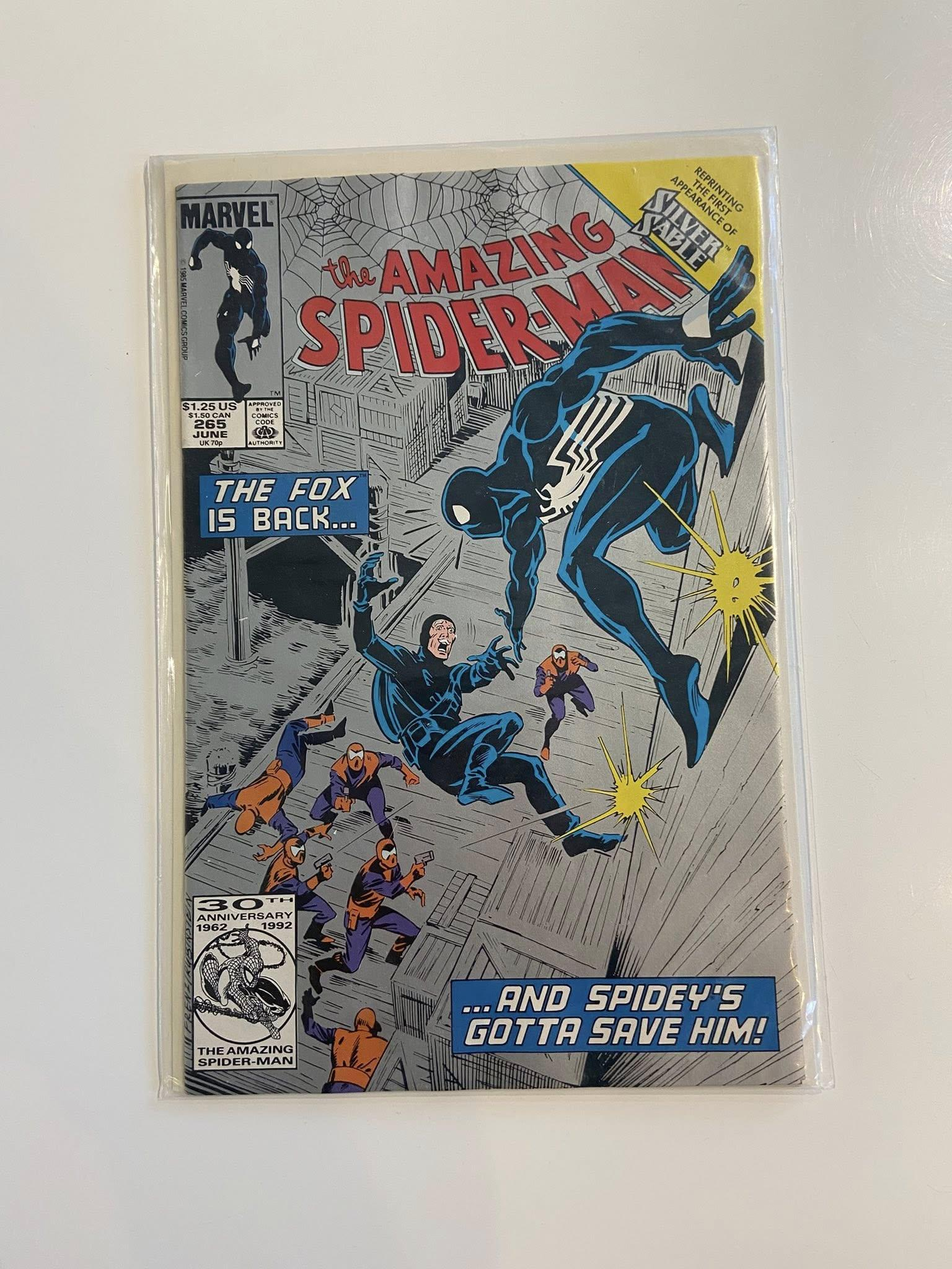comic: (147, 136, 818, 1096)
